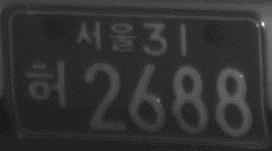1: (177, 22, 191, 58)
2: (81, 61, 127, 132)
3: (141, 22, 169, 57)
6: (129, 62, 166, 135)
8: (170, 65, 210, 137), (215, 67, 254, 140)
서울_O: (74, 19, 137, 56)
허: (24, 57, 69, 111)
